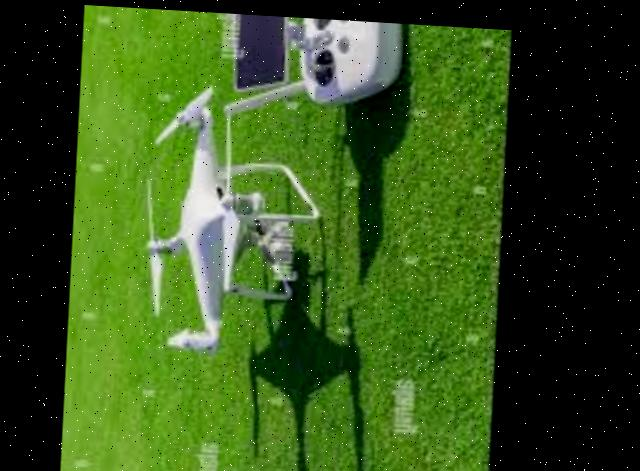drone: (126, 76, 334, 366)
